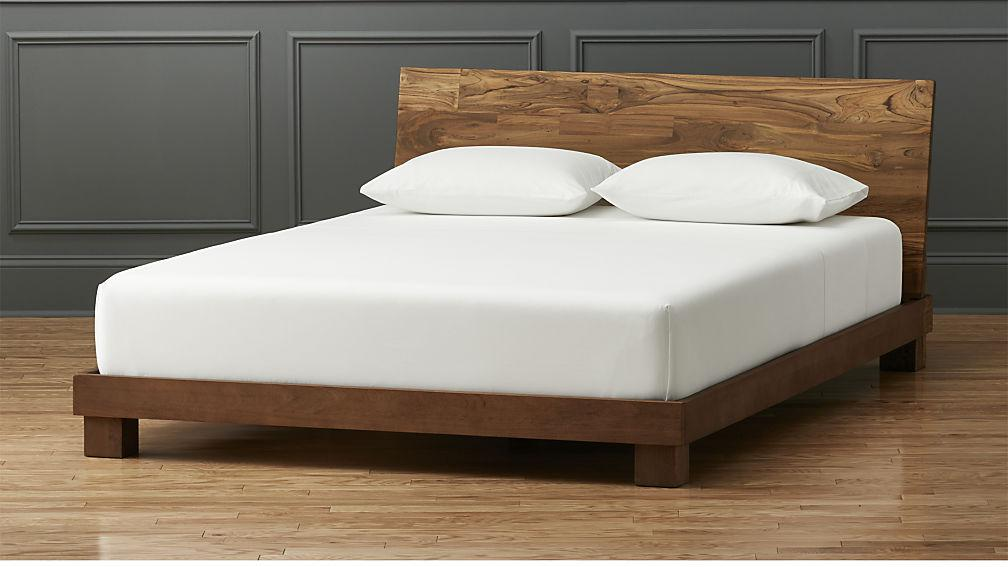bed: (60, 57, 969, 489)
